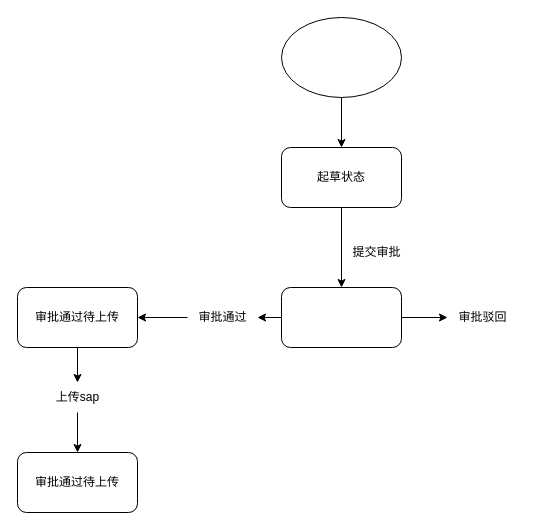
Some shapes in this 535 by 530 pixel diagram are drawn without their labels. Each missing label, with the centre of its shape:
"审批中" goes at [341,317].
"开始" goes at [341,57].
